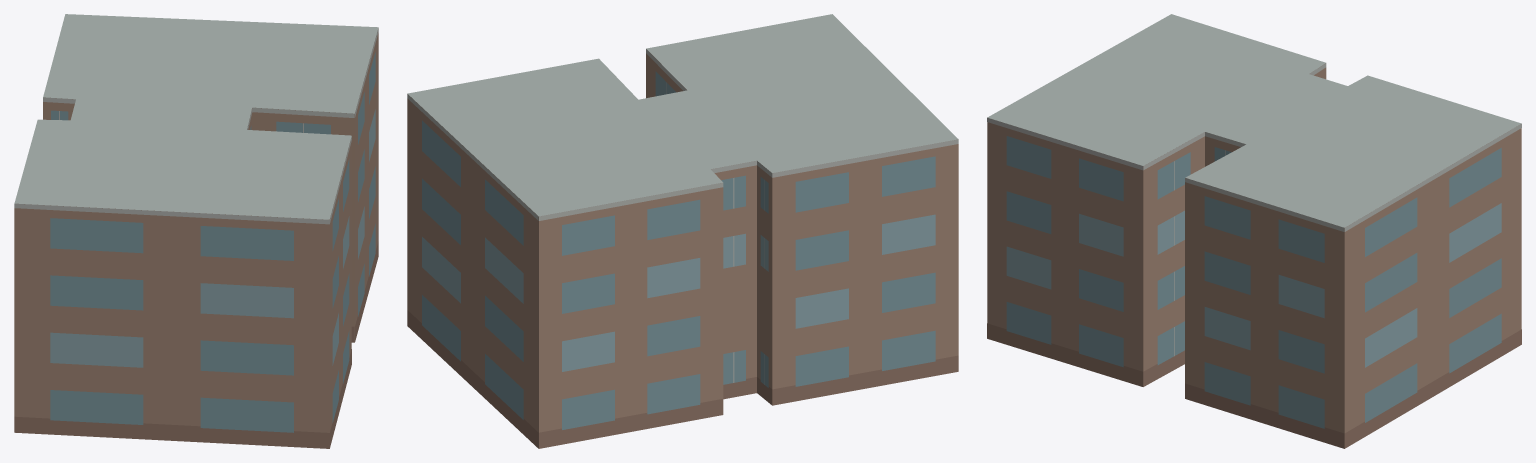
Rendered from survey-upis-32599611.glb.
3 views of the same model, side by side, from view 1: azimuth 30°, elevation 25°; view 2: azimuth 150°, elevation 25°; view 3: azimuth 270°, elevation 25° (orthographic). The views are drawn at different scales.
Parts seen in each view (by area): view 1: survey-upis-32599611.tmp; view 2: survey-upis-32599611.tmp; view 3: survey-upis-32599611.tmp.
Part boxes in pixels (box(x1,y1,x2,y2)): survey-upis-32599611.tmp: box(14, 14, 378, 448); survey-upis-32599611.tmp: box(407, 14, 958, 448); survey-upis-32599611.tmp: box(987, 14, 1521, 448).
Bounding box in the file's own units: 25.3 × 12.2 × 26.74.
